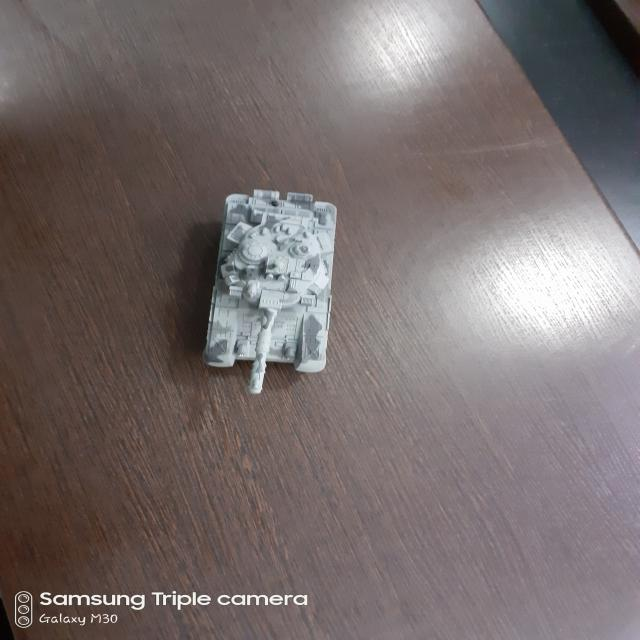tank: (199, 181, 345, 397)
